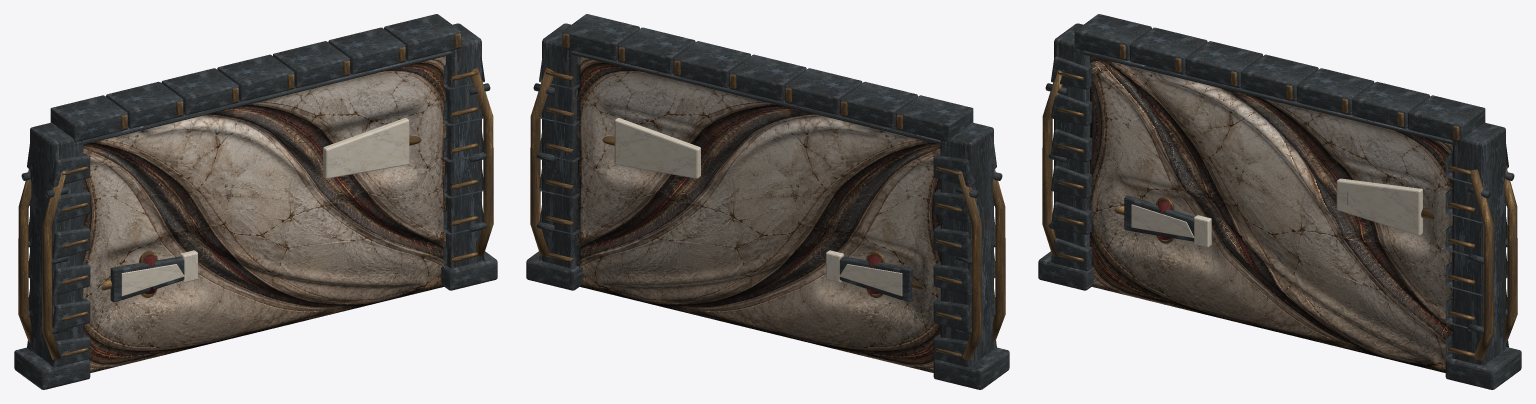
File: foundry_threshold.glb
The picture shows the model from 3 angles, left to right: view 1: azimuth 30°, elevation 25°; view 2: azimuth 150°, elevation 25°; view 3: azimuth 330°, elevation 25°; orthographic projection.
Parts seen in each view (by area): view 1: MovingLeaf_Visual, StationaryFrame_Visual, IvoryLatch_Visual, BloodLatch_Visual; view 2: MovingLeaf_Visual, StationaryFrame_Visual, IvoryLatch_Visual, BloodLatch_Visual; view 3: MovingLeaf_Visual, StationaryFrame_Visual, IvoryLatch_Visual, BloodLatch_Visual.
Part boxes in pixels (left/top/right/bottom): MovingLeaf_Visual: left=83, top=56, right=445, bottom=372; StationaryFrame_Visual: left=14, top=14, right=497, bottom=389; IvoryLatch_Visual: left=323, top=118, right=421, bottom=178; BloodLatch_Visual: left=101, top=250, right=197, bottom=302; MovingLeaf_Visual: left=578, top=56, right=940, bottom=372; StationaryFrame_Visual: left=526, top=14, right=1009, bottom=389; IvoryLatch_Visual: left=602, top=118, right=700, bottom=178; BloodLatch_Visual: left=826, top=250, right=922, bottom=302; MovingLeaf_Visual: left=1090, top=56, right=1452, bottom=372; StationaryFrame_Visual: left=1038, top=14, right=1521, bottom=389; IvoryLatch_Visual: left=1336, top=178, right=1434, bottom=235; BloodLatch_Visual: left=1114, top=195, right=1211, bottom=247.
Size of the model in its own units: 10.26 by 5.5 by 1.14.
5 materials, 5 textured.
